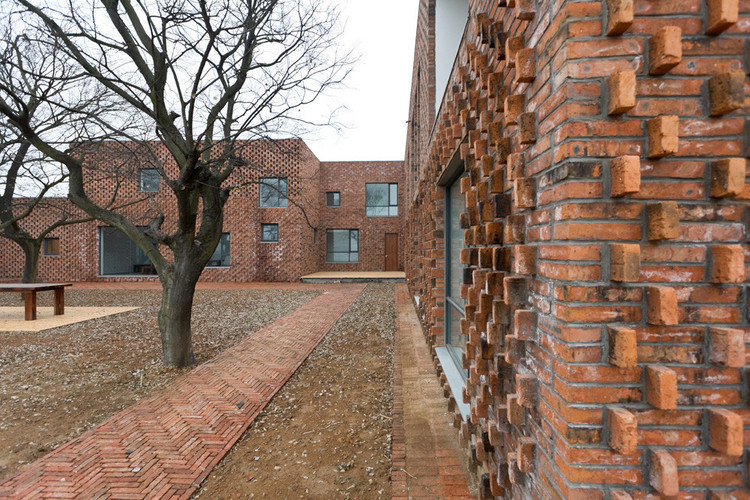Wall: (464, 70, 740, 491), (235, 246, 305, 279), (39, 258, 96, 282)
